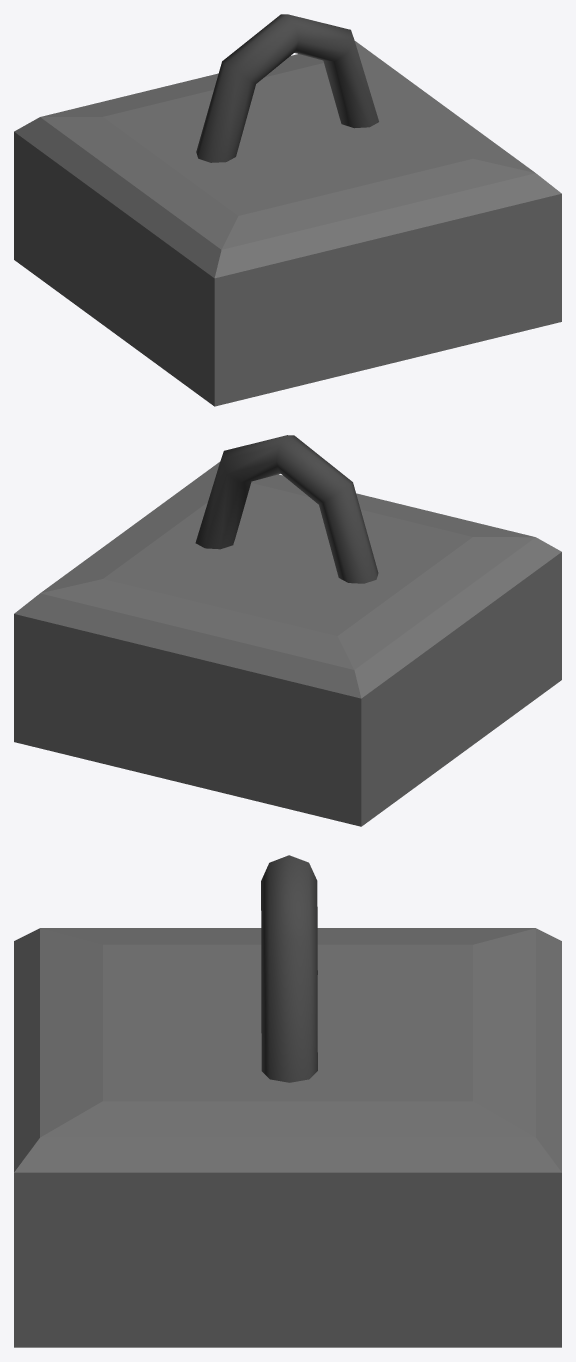
The model's file is chainBase_type_01.fbx.
The picture shows the model from 3 angles, top to bottom: view 1: azimuth 30°, elevation 25°; view 2: azimuth 150°, elevation 25°; view 3: azimuth 270°, elevation 25°; orthographic projection. The views are drawn at different scales.
Visible parts, largest first — view 1: chainBase_type_01; view 2: chainBase_type_01; view 3: chainBase_type_01.
Part boxes in pixels (box(x1,y1,x2,y2)): chainBase_type_01: box(14, 14, 561, 406); chainBase_type_01: box(14, 435, 561, 826); chainBase_type_01: box(14, 855, 561, 1347).
Size of the model in its own units: 29.2 by 22.17 by 29.2.
